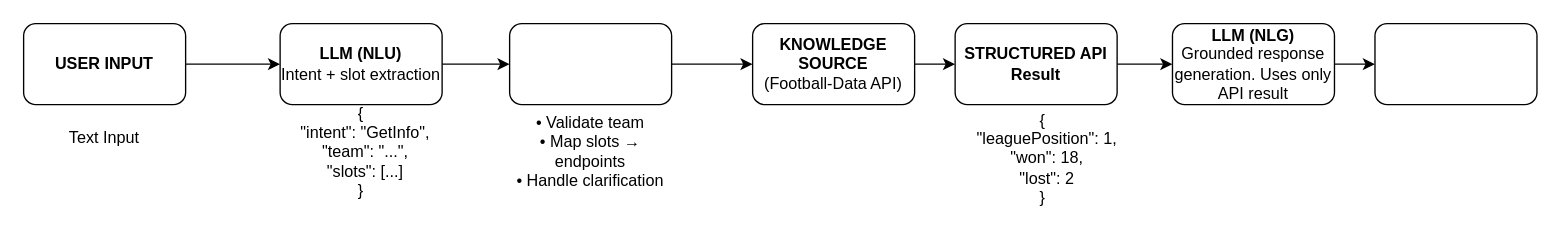
Some shapes in this 1561 by 236 pixel diagram are drawn without their labels. The shapes that lost their labels are listed below. From the top down, each one's box as (x1, y1, x2, y2) in pixels, then its label:
(508, 22, 672, 105): DIALOGUE MANAGER (Python router)
(1374, 22, 1537, 105): SYSTEM RESPONSE
